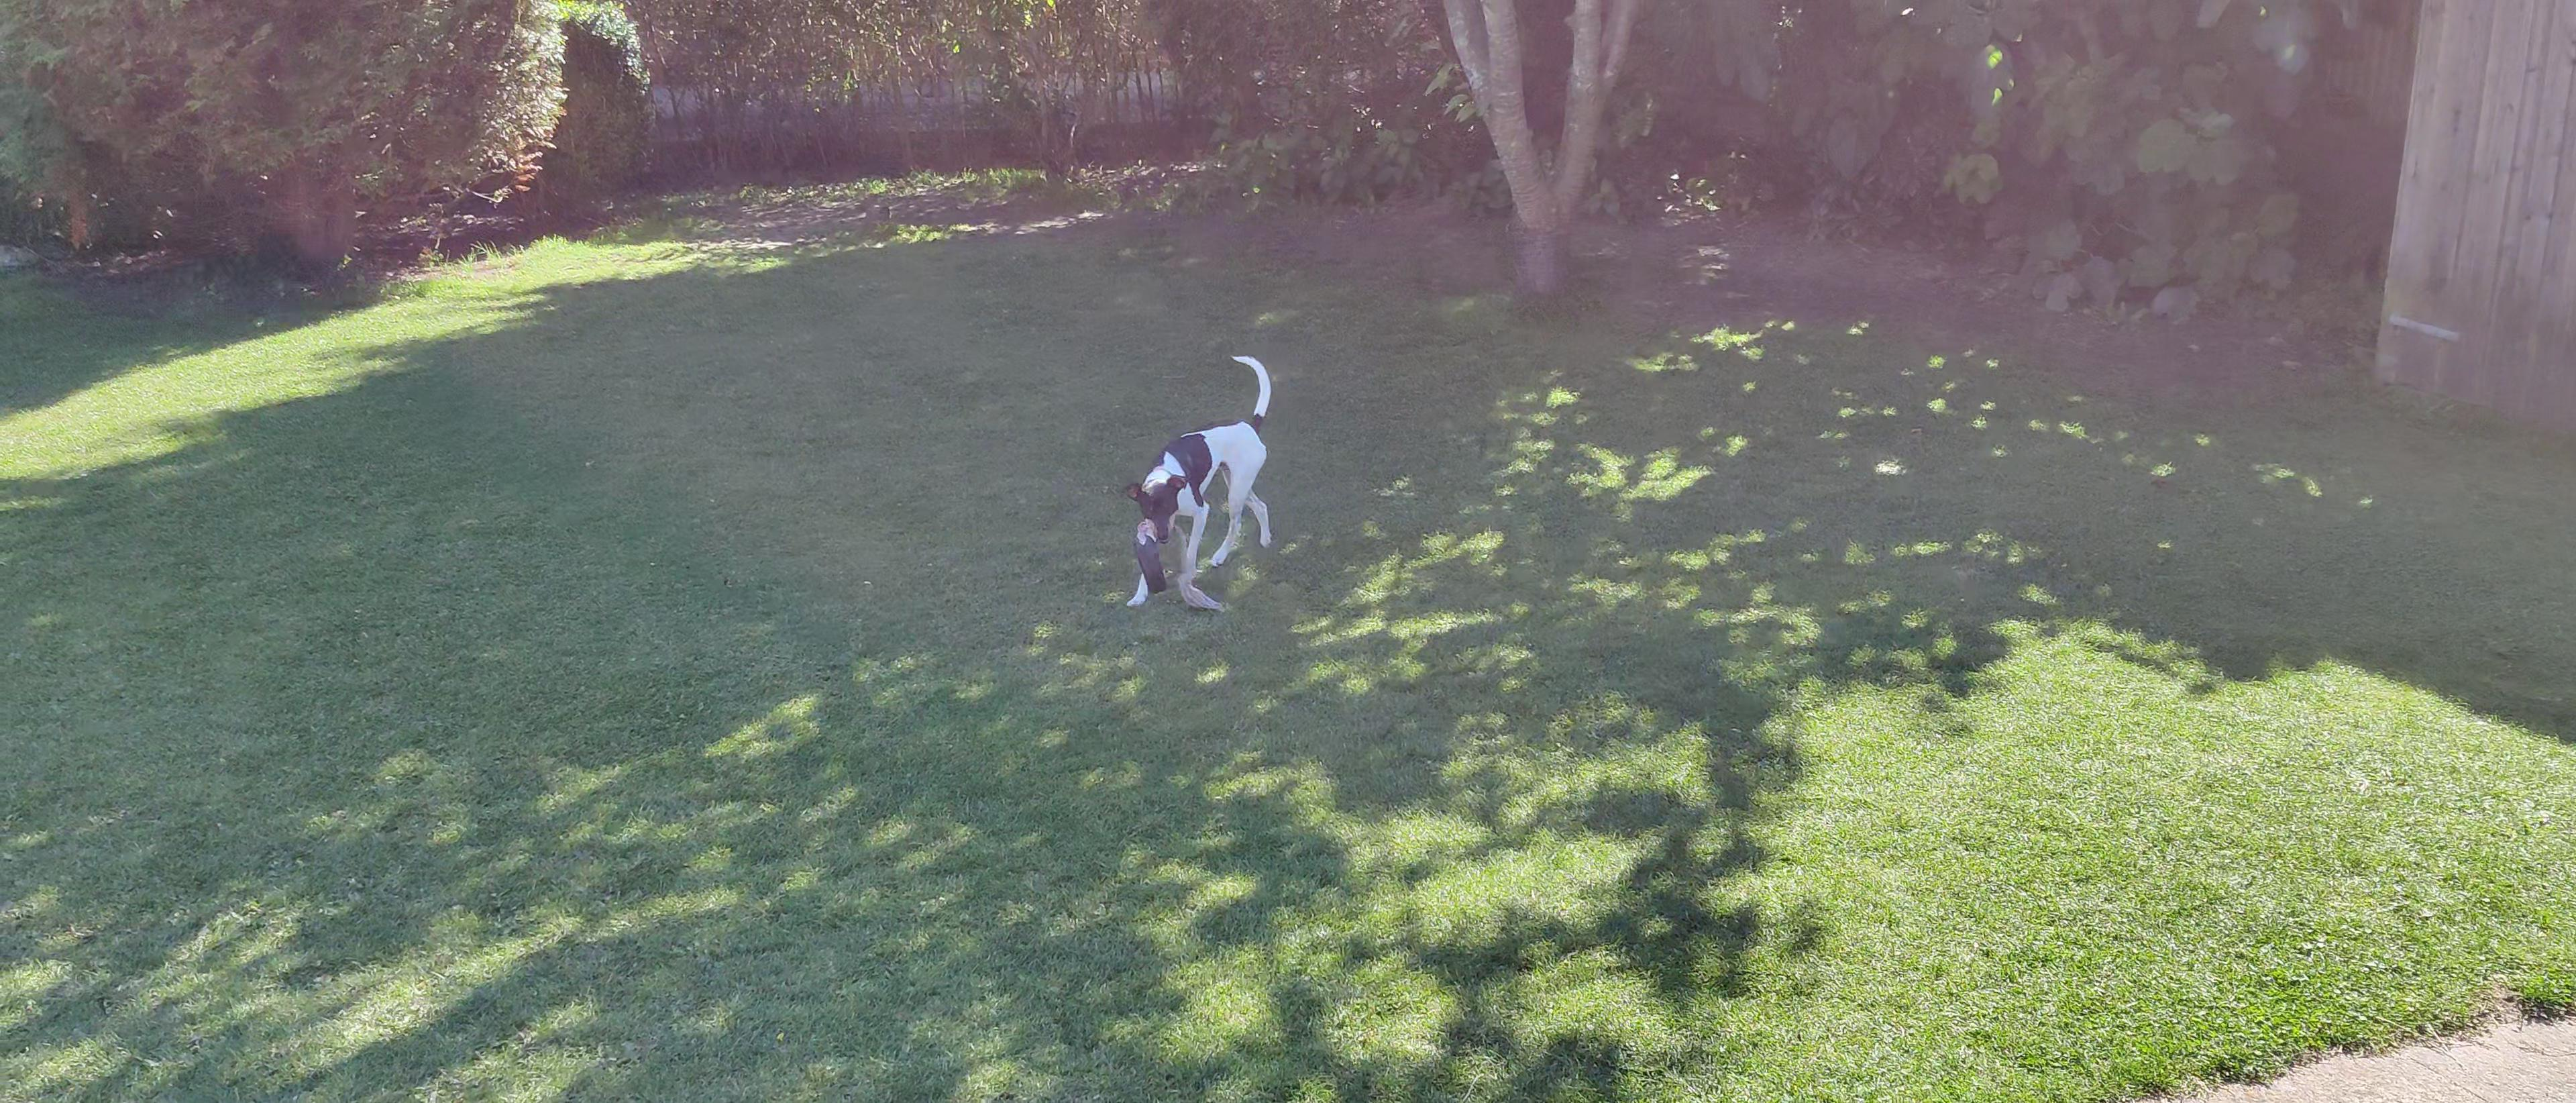Dog: (1117, 352, 1276, 615)
